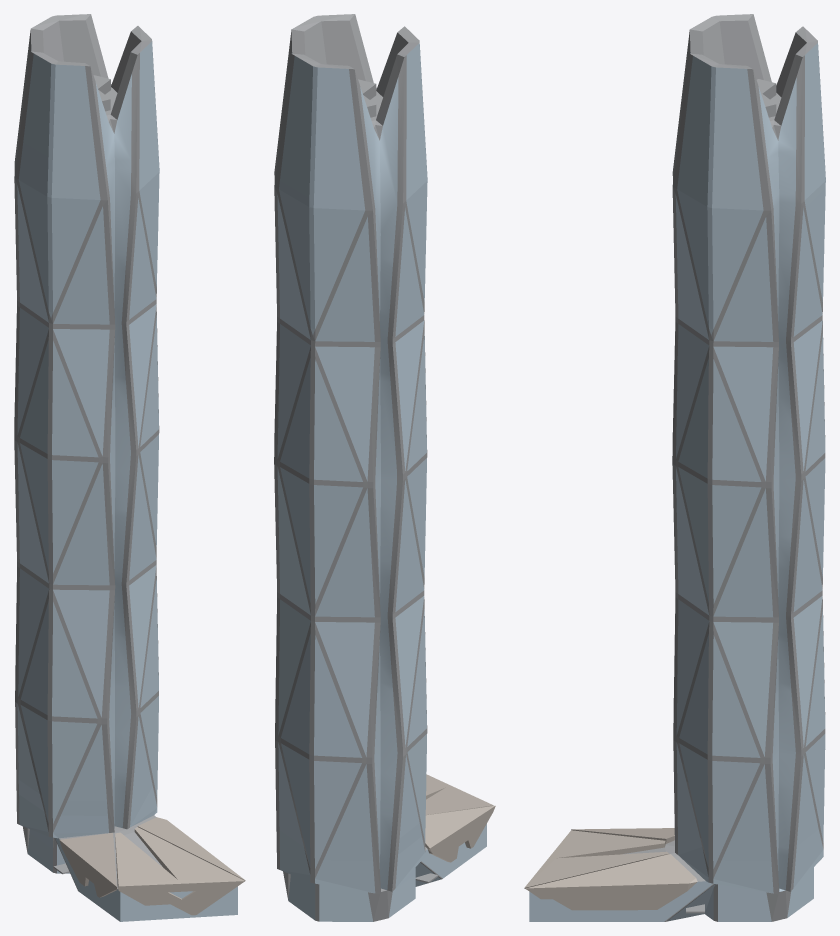
The picture shows the model from 3 angles, left to right: view 1: azimuth 30°, elevation 25°; view 2: azimuth 150°, elevation 25°; view 3: azimuth 270°, elevation 25°; orthographic projection. The views are drawn at different scales.
Parts seen in each view (by area): view 1: 70030076201848898lod; view 2: 70030076201848898lod; view 3: 70030076201848898lod.
Part boxes in pixels (left/top/right/bottom): 70030076201848898lod: left=14, top=14, right=245, bottom=921; 70030076201848898lod: left=274, top=14, right=495, bottom=921; 70030076201848898lod: left=524, top=14, right=825, bottom=921.
Size of the model in its own units: 51.21 by 325 by 104.
1 material, 1 textured.
